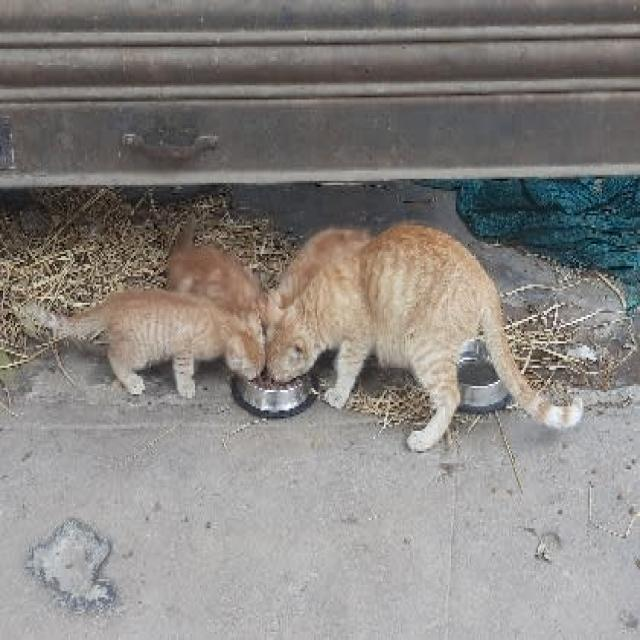cat: (266, 225, 582, 451), (24, 292, 265, 397), (260, 228, 371, 339), (169, 225, 266, 341)
